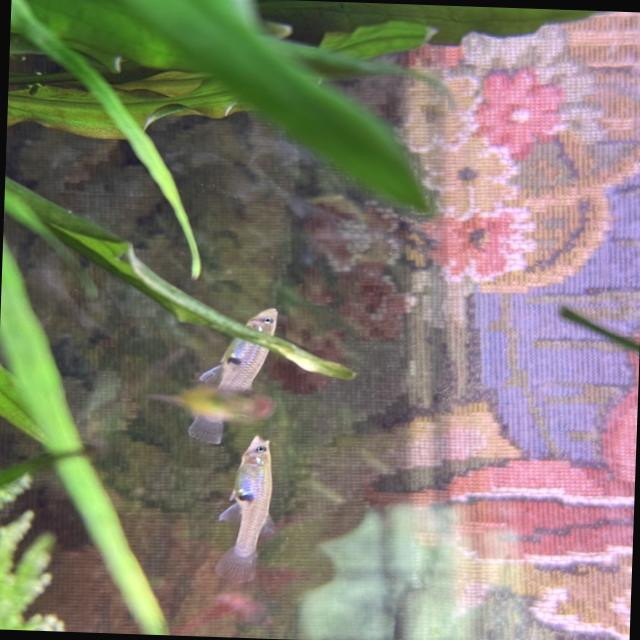Sivrisinek Baligi: (179, 304, 278, 443), (212, 432, 280, 584)
